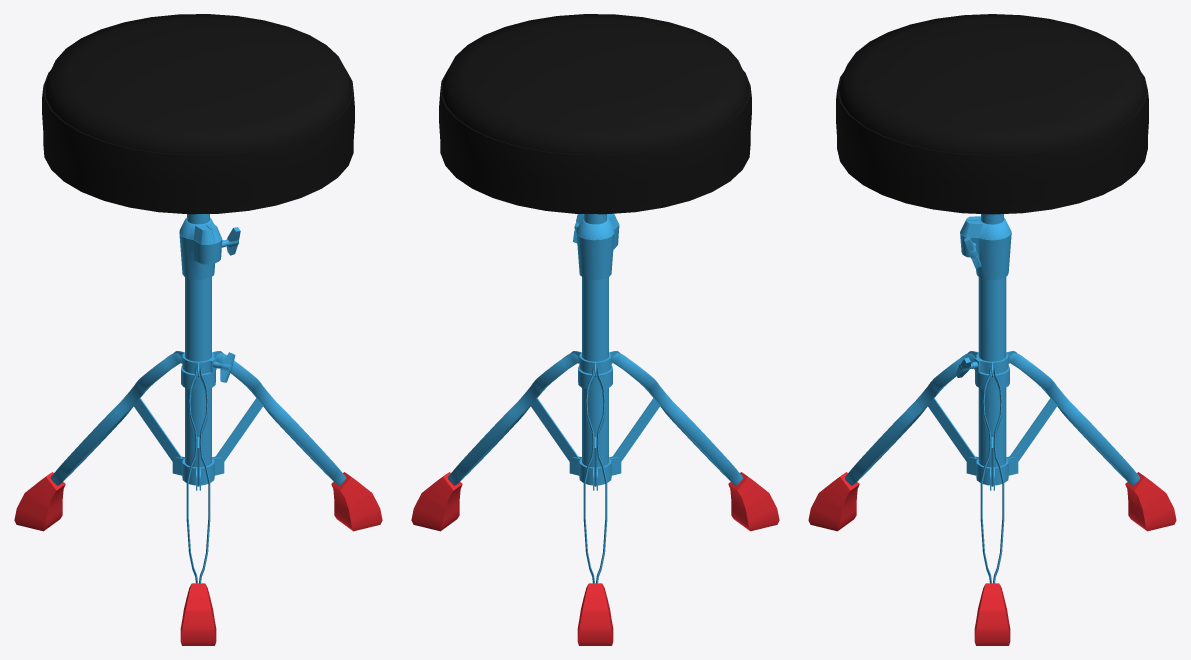
File: drum_throne_FBX_Unreal.fbx
The picture shows the model from 3 angles, left to right: view 1: azimuth 30°, elevation 25°; view 2: azimuth 150°, elevation 25°; view 3: azimuth 270°, elevation 25°; orthographic projection.
Visible parts, largest first — view 1: sgabello_LOW; view 2: sgabello_LOW; view 3: sgabello_LOW.
Boxes of the visible parts, bbox=[...] form: sgabello_LOW: bbox=[14, 14, 382, 645]; sgabello_LOW: bbox=[411, 14, 779, 645]; sgabello_LOW: bbox=[808, 14, 1176, 645].
Size of the model in its own units: 31.47 by 47.99 by 32.27.
